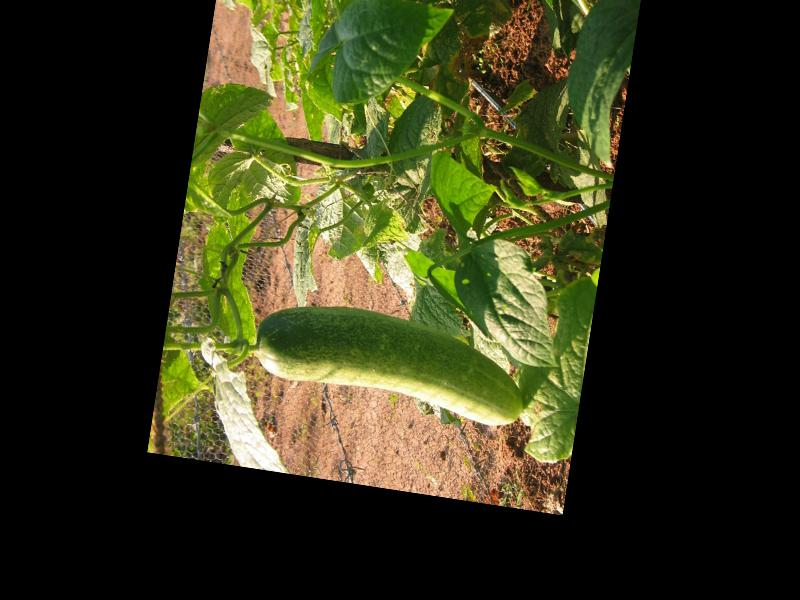Cucumber: (250, 294, 532, 429)
